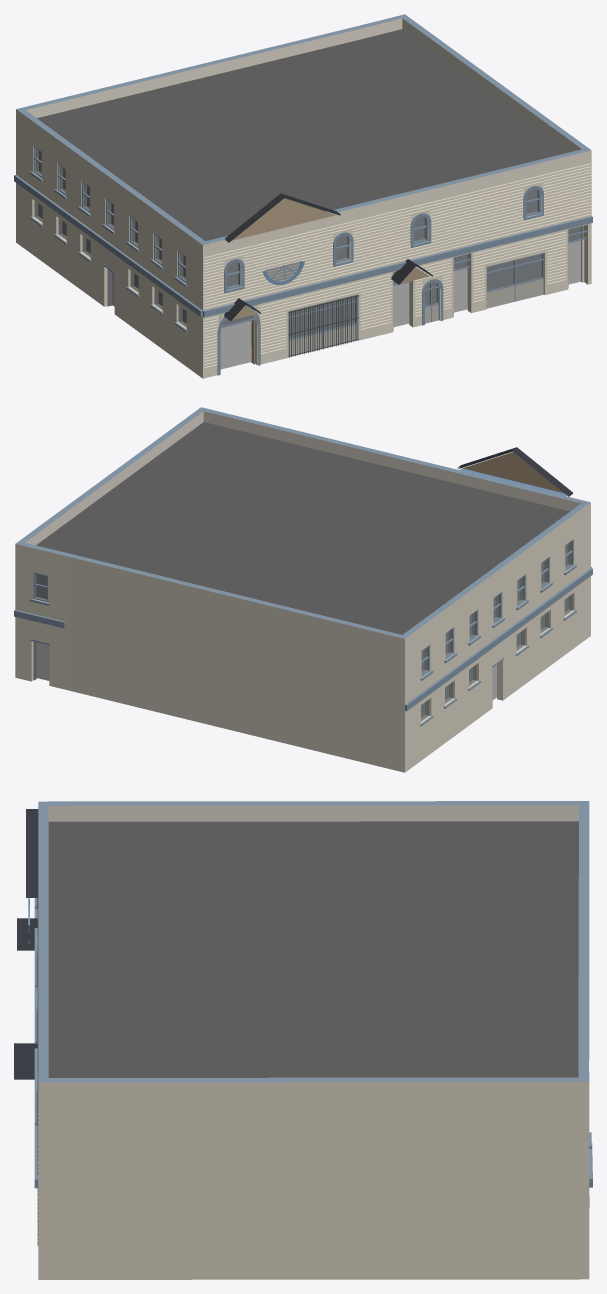
Rendered from exterior.glb.
3 renders of one model, top to bottom at view 1: azimuth 30°, elevation 25°; view 2: azimuth 150°, elevation 25°; view 3: azimuth 270°, elevation 25°, orthographic. The views are drawn at different scales.
Visible parts, largest first — view 1: shell, roof, hyD-lap-1, shadow-proxy, glazing, trim, storefront, hand-ornament, hyC-arches-1, frames; view 2: shell, roof, trim, hand-ornament, glazing, shadow-proxy, frames; view 3: roof, shell, hand-ornament, trim, hyD-lap-1.
Part boxes in pixels (box(x1,y1,x2,y2)): shell: box(16, 14, 591, 378); roof: box(37, 29, 570, 240); hyD-lap-1: box(204, 163, 590, 367); shadow-proxy: box(38, 151, 580, 369); glazing: box(34, 148, 586, 346); trim: box(14, 171, 592, 332); storefront: box(103, 225, 586, 364); hand-ornament: box(224, 193, 432, 321); hyC-arches-1: box(217, 185, 543, 375); frames: box(33, 146, 540, 289); shell: box(15, 407, 590, 772); roof: box(36, 422, 569, 634); trim: box(14, 565, 592, 726); hand-ornament: box(457, 447, 572, 496); glazing: box(35, 542, 572, 721); shadow-proxy: box(36, 544, 568, 717); frames: box(33, 539, 573, 676); roof: box(48, 821, 578, 1077); shell: box(38, 801, 589, 1279); hand-ornament: box(14, 809, 38, 1079); trim: box(34, 898, 592, 1188); hyD-lap-1: box(37, 898, 38, 1245).
Bounding box in the file's own units: 22.11 × 8.98 × 19.12.
